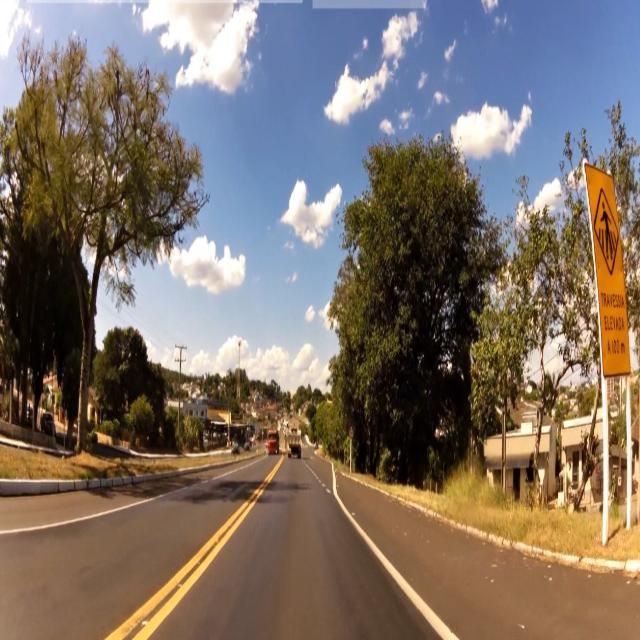A-32b: (595, 187, 622, 275)
